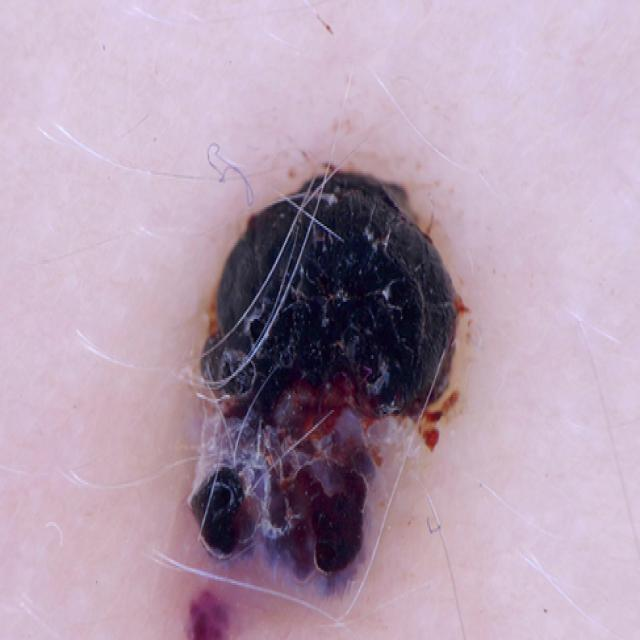Vascular Lesions: (140, 121, 556, 640)
